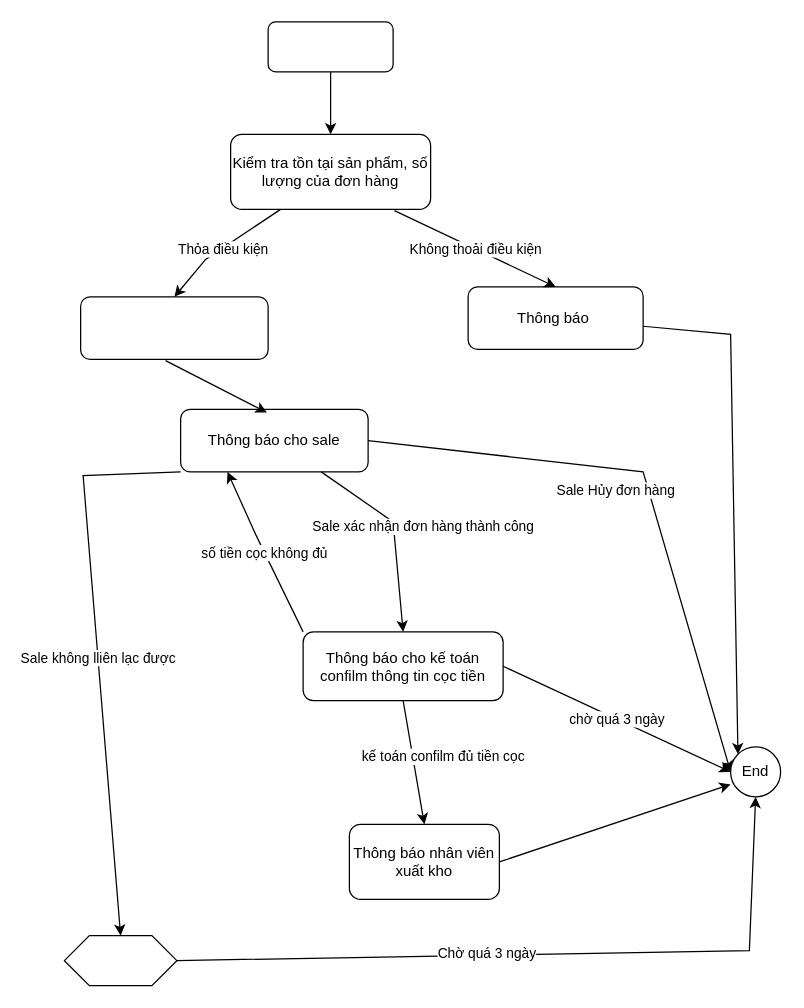
This 804x1008 diagram has some shape labels left out. The centre of each missing label's shape, as x and y in pixels:
"Pending" goes at point 120,960.
"Quy trình Thêm mới đơn hàng" goes at point 330,46.
"Thêm đơn hàng và cập nhật lại thông tin sản phẩm" goes at point 173,327.
